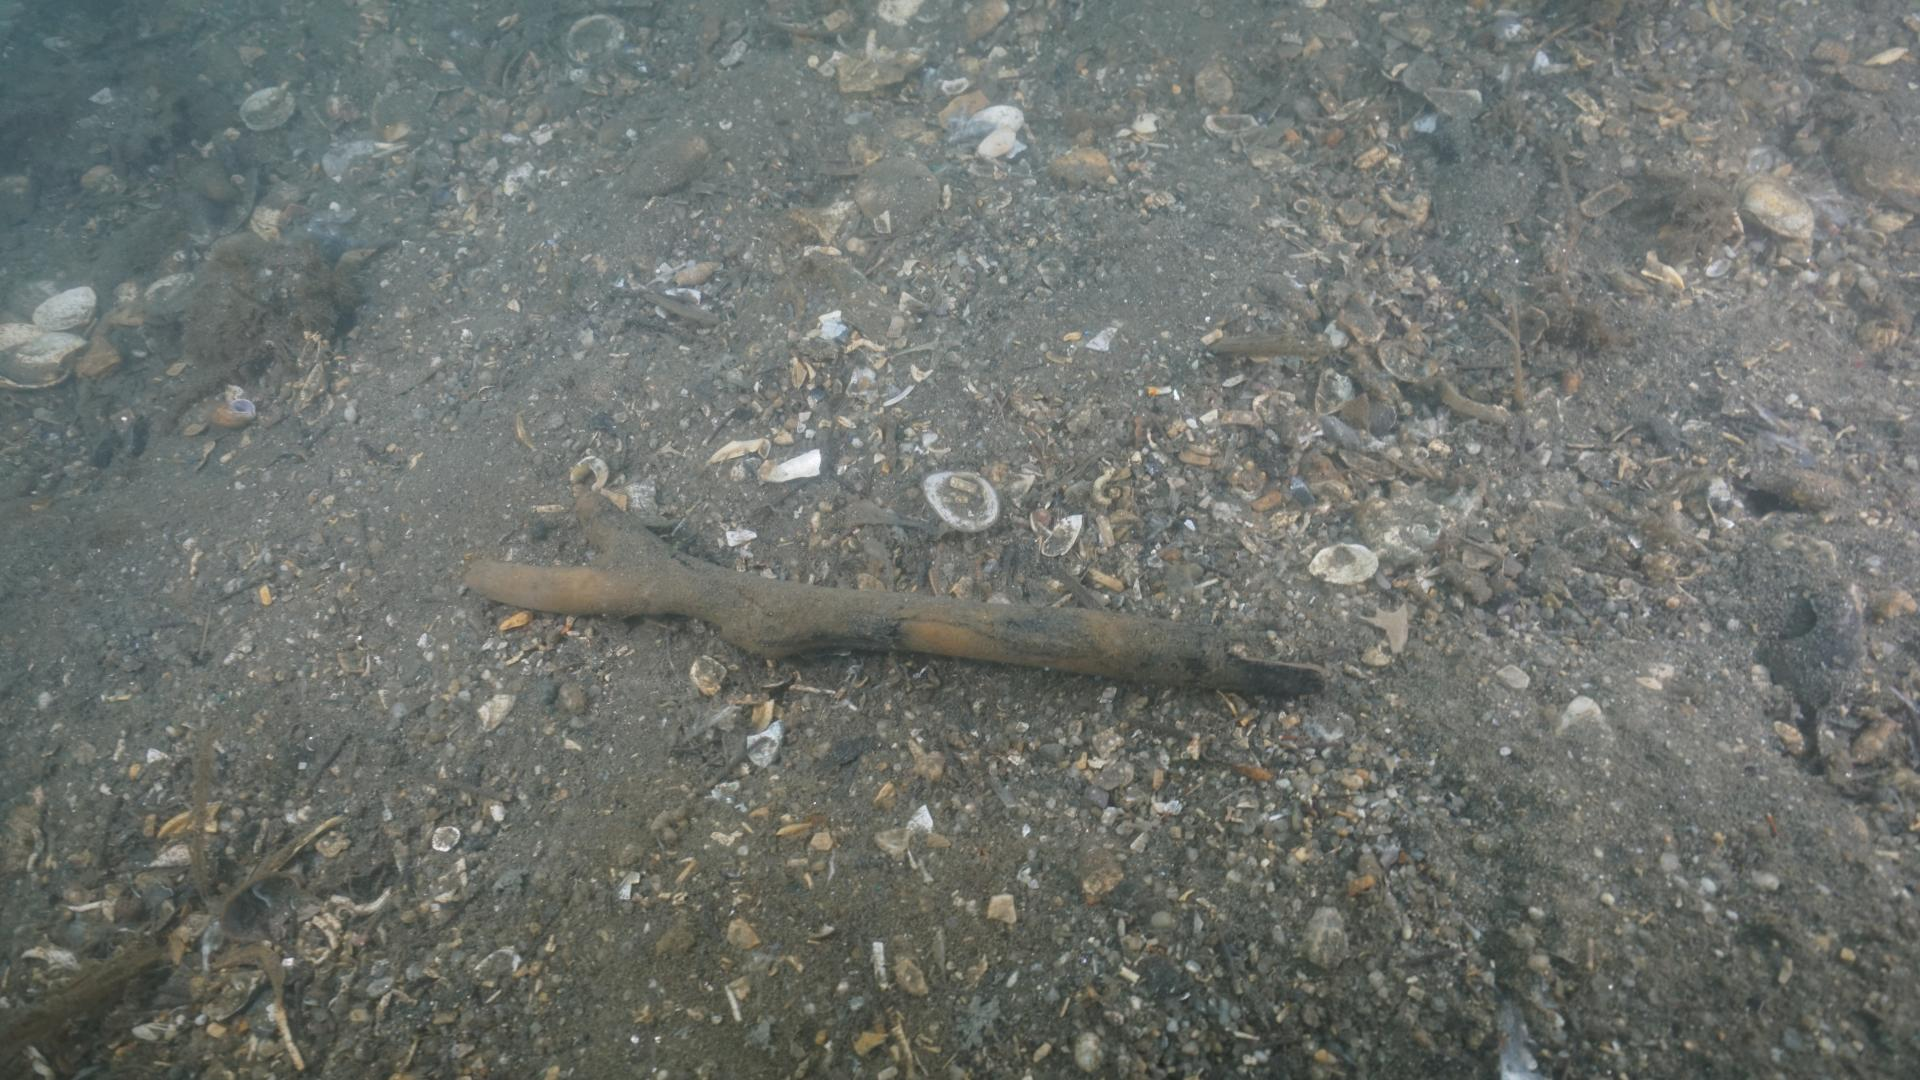wood: (462, 488, 1328, 698)
